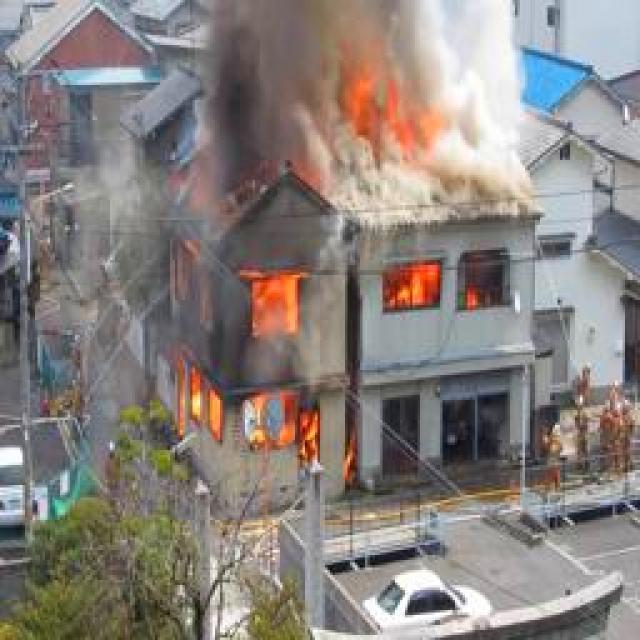Fire: (177, 203, 324, 483), (337, 40, 442, 154), (388, 269, 503, 322)
